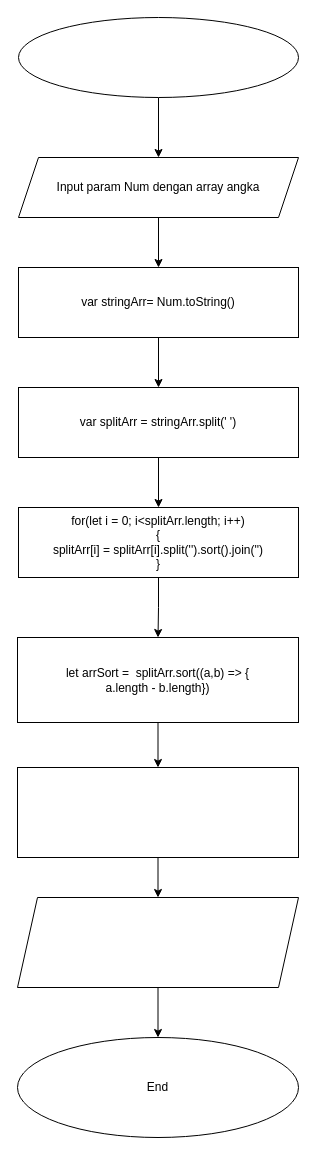
Some shapes in this 316 by 1155 pixel diagram are drawn without their labels. The shapes that lost their labels are listed below. From the top down, each one's centre as x and y in pixels, then its label:
At pixel 158 57: "Start".
At pixel 157 812: "return arrSort".
At pixel 157 942: "Output Num".
